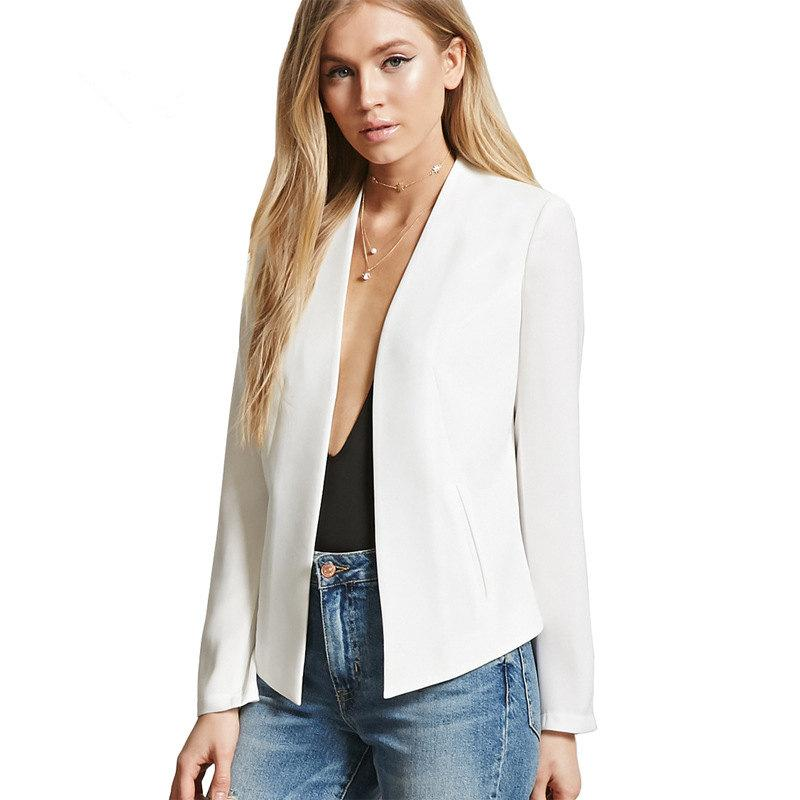F_W_suit jacket: (218, 174, 596, 674)
